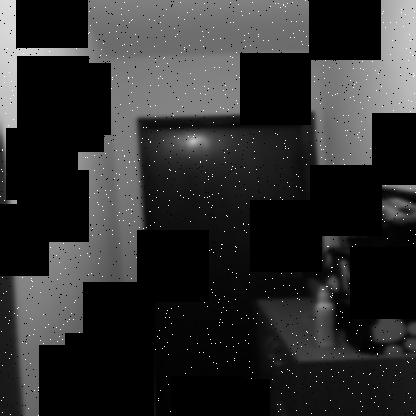Porte: (135, 111, 332, 415)
